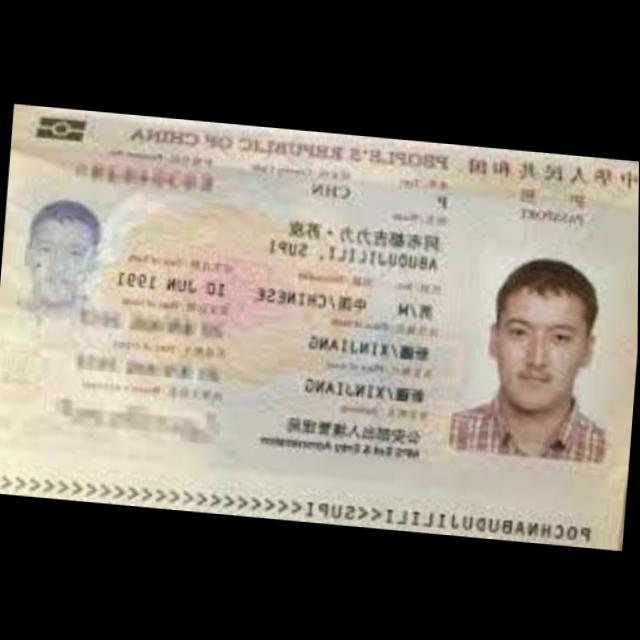passport: (0, 103, 639, 548)
